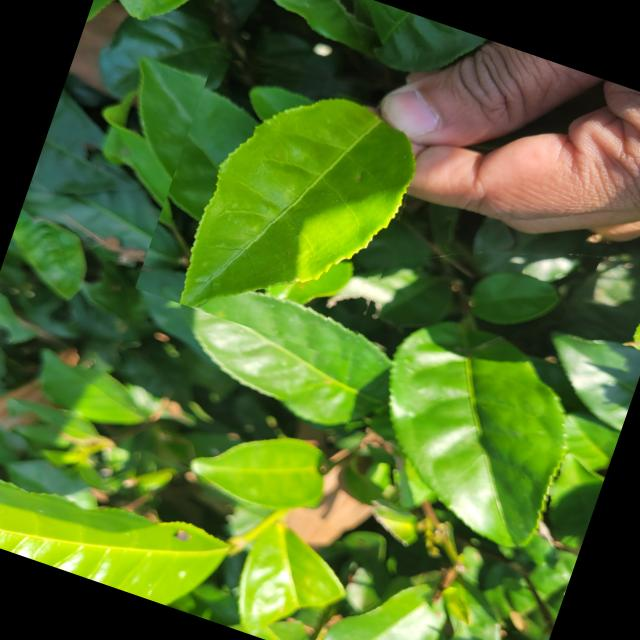Catagory A(1-2 days): (134, 44, 440, 365)
